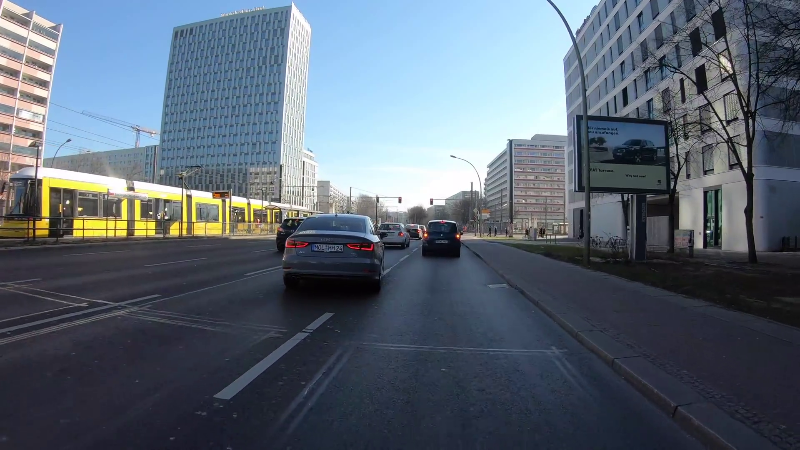Plate: (307, 241, 344, 255), (431, 238, 450, 245)
